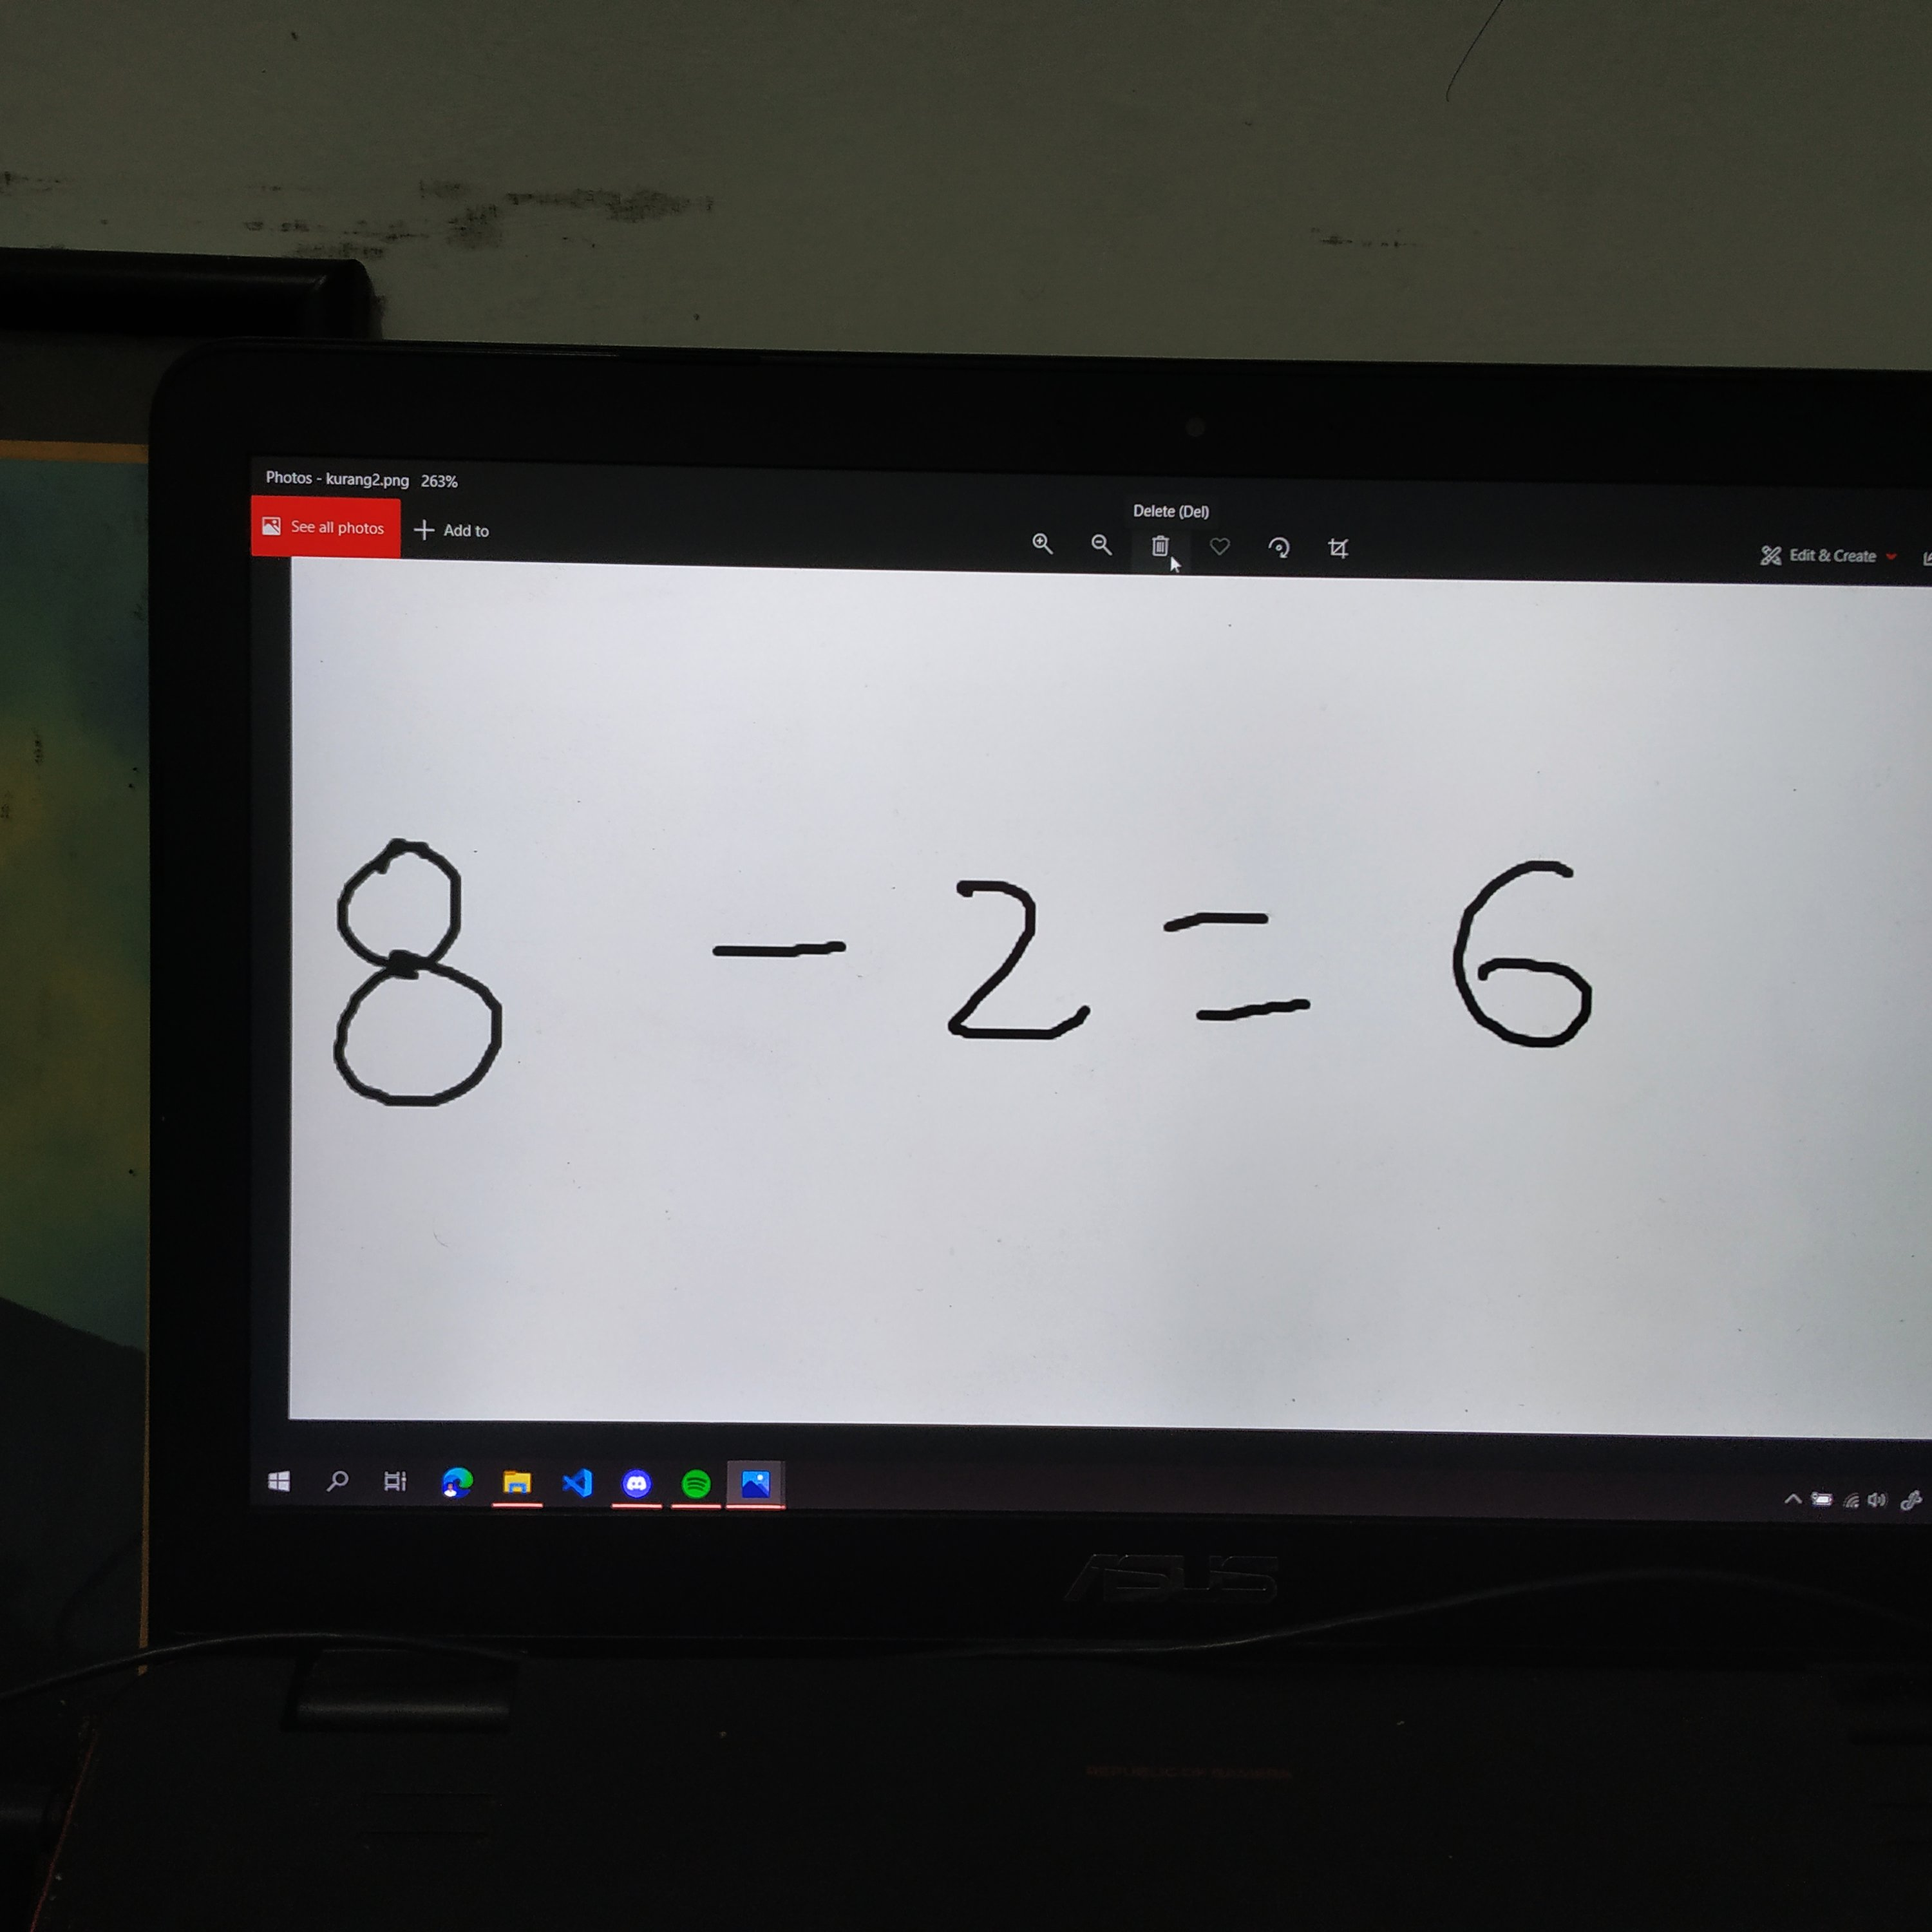equal: (1141, 895, 1334, 1049)
min: (680, 916, 889, 990)
num2: (921, 868, 1118, 1051)
num6: (1436, 839, 1613, 1074)
num8: (316, 819, 522, 1126)
